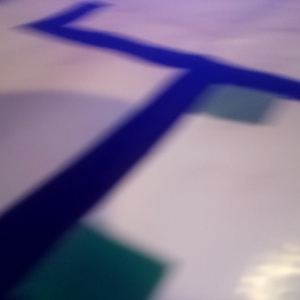bottom_right: (180, 76, 275, 124)
top_right: (1, 223, 162, 300)
